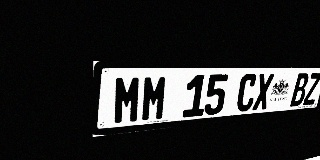1: (182, 75, 208, 118)
5: (204, 74, 228, 116)
B: (290, 73, 310, 107)
C: (235, 74, 258, 112)
M: (113, 75, 142, 125), (140, 75, 169, 122)
X: (252, 74, 274, 111)
Z: (303, 73, 320, 105)
